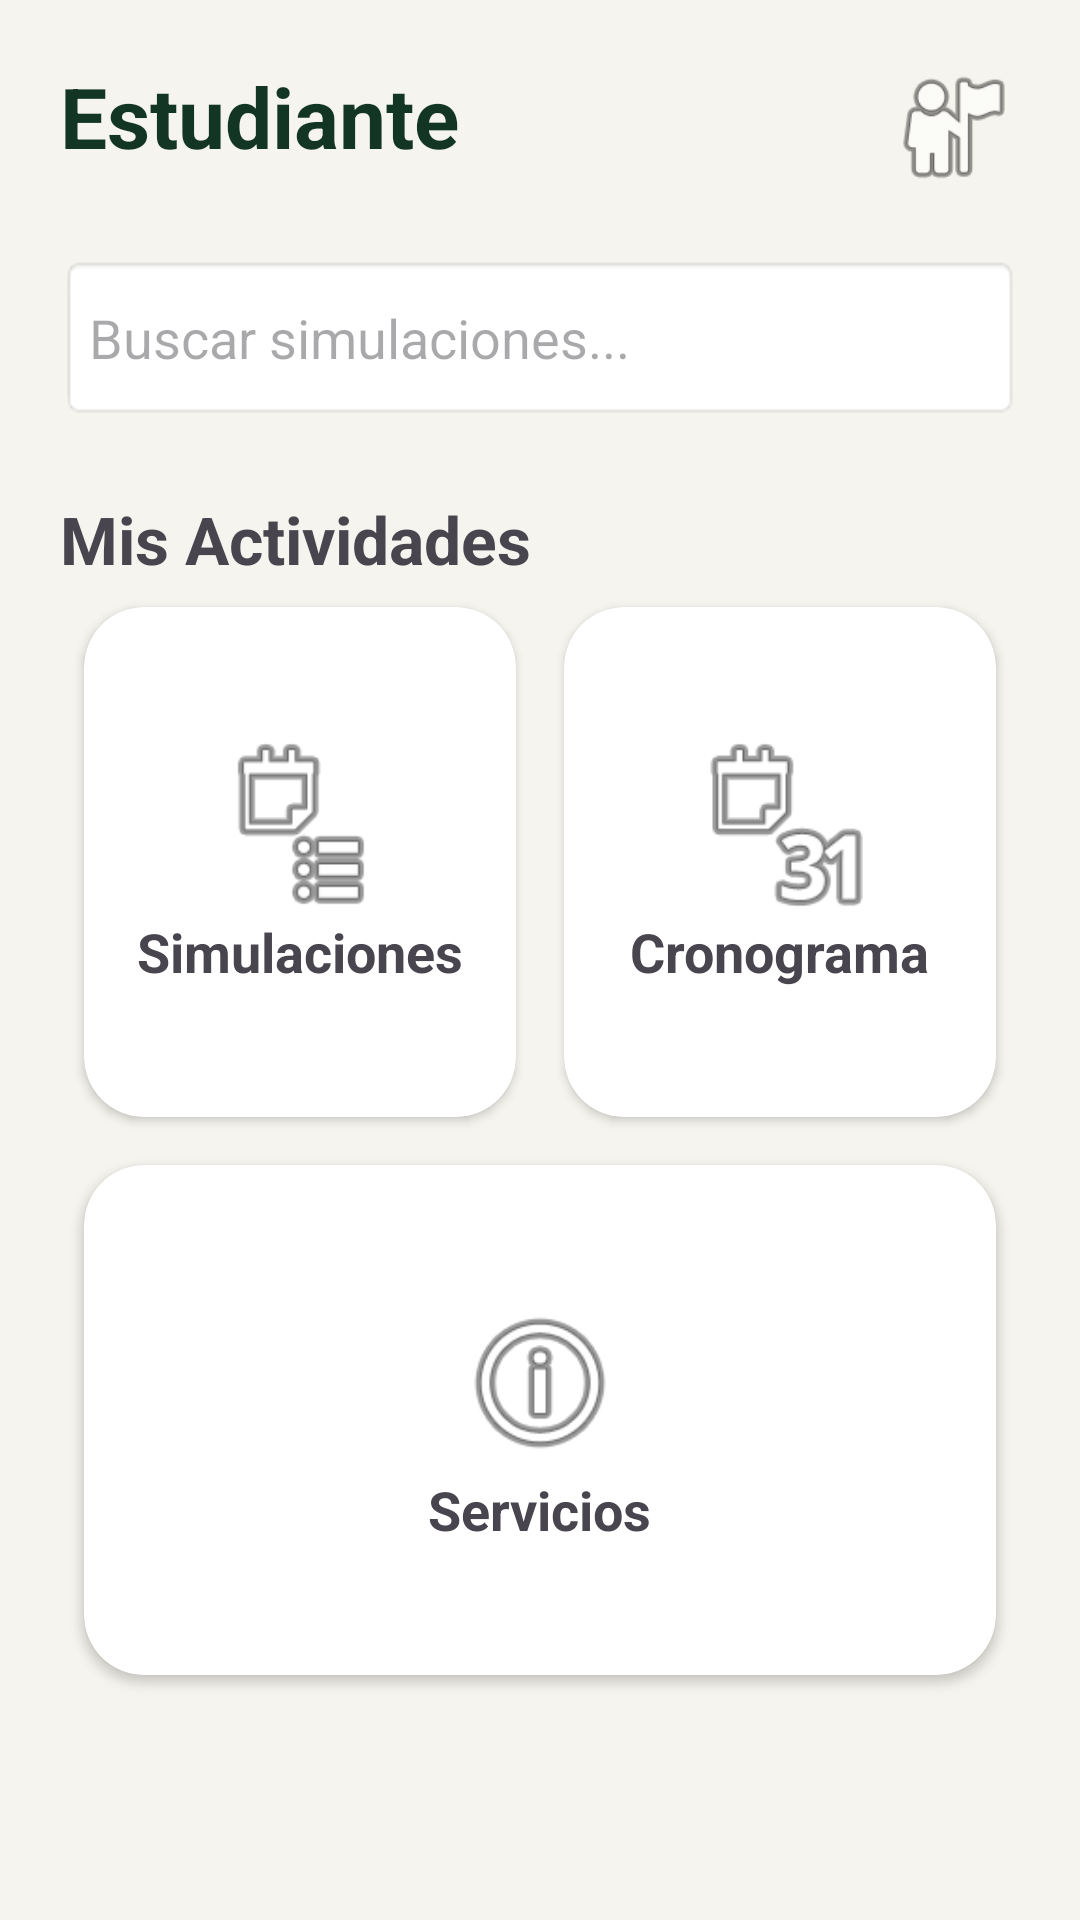

Where to tap for icons on this 1080px×1920px app screen, as (x=x, y=y):
agenda: (x=301, y=824)
info details: (x=540, y=1383)
month: (x=787, y=825)
